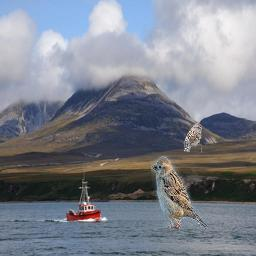Sparrow: (152, 157, 209, 230), (184, 122, 203, 152)
